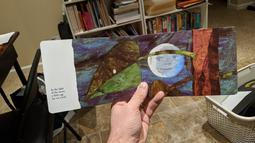text block: (48, 85, 69, 102)
